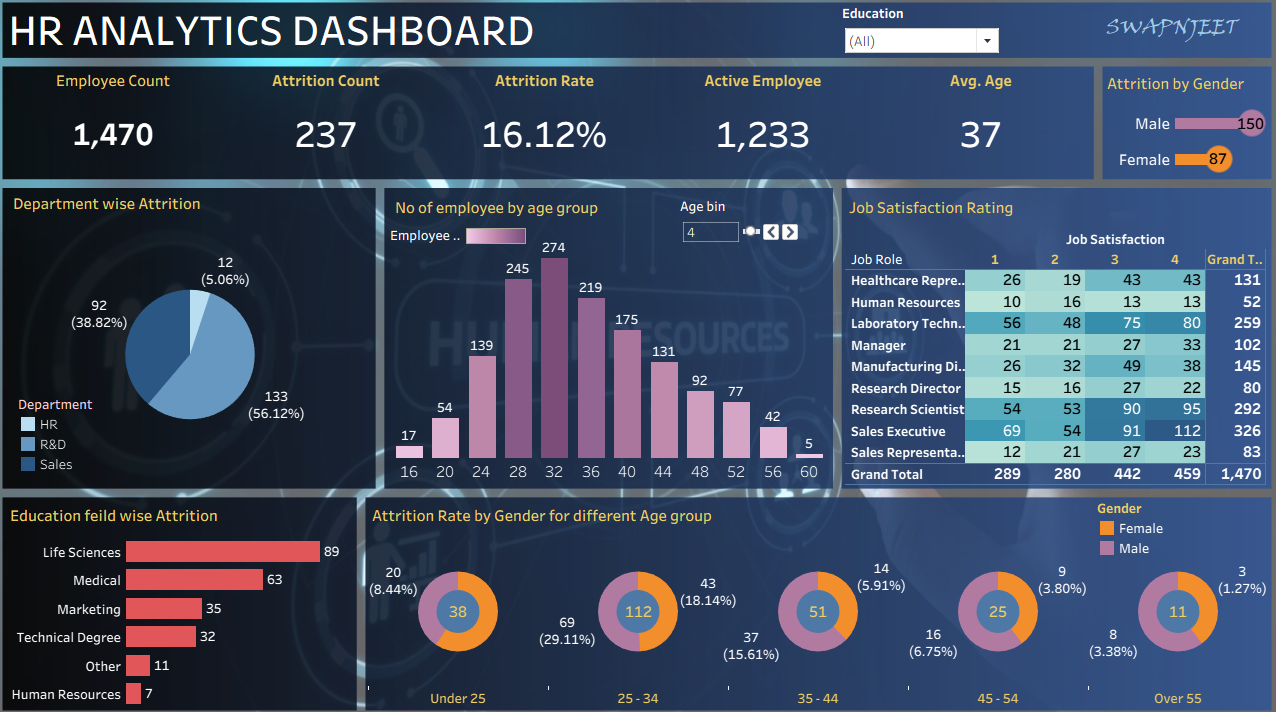

This screenshot's page, from the dashboard's own definition file:
{"tool":"tableau","page":{"name":"Dashboard 1","canvas":[1000,1000],"units":"permille","ordinal":0},"visuals":[{"type":"image","param":"C:/Users/user/Downloads/HR background.pptx.png","box":[105.8,57.5,744.8,865.9]},{"type":"text","box":[110.5,65.9,330.2,59.9]},{"type":"filter","title":"Attrition Rate by Gender for different Age group","param":"[federated.0ii79ph1ozqfsf0zrgak90svut9l].[none:Education:nk]","box":[597.1,65.9,93,61.1]},{"type":"text","box":[748.8,67.1,83.7,59.9]},{"type":"worksheet","title":"Attrition by Gender","mark":"Automatic","rows":["Gender"],"cols":["Calculation_1365379191185408","Calculation_1365379191185408"],"box":[748.8,143.7,96.5,129.3]},{"type":"worksheet","title":"KPIS","mark":"Automatic","rows":["Employee Count"],"box":[112.8,144.9,629.1,125.8]},{"type":"worksheet","title":"Department wise Attrition","mark":"Pie","box":[112.8,287.4,210.5,353.3]},{"type":"worksheet","title":"No of employee by age group","mark":"Automatic","rows":["Employee Count"],"cols":["Age (bin)"],"box":[334.9,292.2,254.1,347.3]},{"type":"worksheet","title":"Job Satisfaction Rating","mark":"Square","rows":["Job Role"],"cols":["Job Satisfaction"],"box":[598.8,292.2,244.8,349.7]},{"type":"parameter","param":"[Parameters].[Parameter 0921726604181504]","box":[502.9,297,70.4,56.3]},{"type":"legend","title":"No of employee by age group","param":"[federated.0ii79ph1ozqfsf0zrgak90svut9l].[sum:Employee Count:qk]","box":[334.3,329.3,81.4,23.9]},{"type":"legend","title":"Department wise Attrition","param":"[federated.0ii79ph1ozqfsf0zrgak90svut9l].[none:Department:nk]","box":[118,534.1,56.4,95.8]},{"type":"legend","title":"Attrition Rate by Gender for different Age group","param":"[federated.0ii79ph1ozqfsf0zrgak90svut9l].[none:Gender:nk]","box":[745.4,658.7,58.7,71.9]},{"type":"worksheet","title":"Education feild wise Attrition","mark":"Automatic","rows":["Education Field"],"cols":["Calculation_1365379191185408"],"box":[111,661.1,202.9,247.9]},{"type":"worksheet","title":"Attrition Rate by Gender for different Age group","mark":"Pie","rows":["Calculation_0431070093246465","Calculation_0431070093246465"],"cols":["CF_age band"],"box":[321.5,661.1,523.3,247.9]}]}

Visuals, with their boxes on the dashboard's canvas, which has no fixed pixel size, in thousandths of its width and height (x1, y1, x2, y2). These are canvas units, not pixel positions in the 1276x712 screenshot, which may show the page scaled, cropped or inside an application window:
image: <region>106, 58, 851, 923</region>
text: <region>110, 66, 441, 126</region>
"Attrition Rate by Gender for different Age group" filter: <region>597, 66, 690, 127</region>
text: <region>749, 67, 832, 127</region>
"Attrition by Gender" worksheet: <region>749, 144, 845, 273</region>
"KPIS" worksheet: <region>113, 145, 742, 271</region>
"Department wise Attrition" worksheet (Pie marks): <region>113, 287, 323, 641</region>
"No of employee by age group" worksheet: <region>335, 292, 589, 640</region>
"Job Satisfaction Rating" worksheet (Square marks): <region>599, 292, 844, 642</region>
parameter: <region>503, 297, 573, 353</region>
"No of employee by age group" legend: <region>334, 329, 416, 353</region>
"Department wise Attrition" legend: <region>118, 534, 174, 630</region>
"Attrition Rate by Gender for different Age group" legend: <region>745, 659, 804, 731</region>
"Education feild wise Attrition" worksheet: <region>111, 661, 314, 909</region>
"Attrition Rate by Gender for different Age group" worksheet (Pie marks): <region>322, 661, 845, 909</region>
